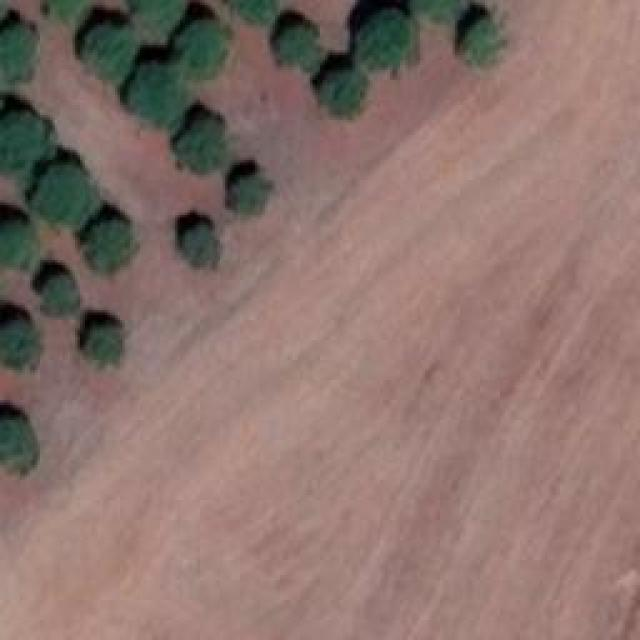Tree: (127, 65, 185, 123), (43, 163, 96, 226), (358, 13, 413, 73), (0, 113, 45, 176), (175, 120, 225, 175), (85, 215, 130, 275), (83, 25, 136, 75), (177, 20, 225, 75), (0, 25, 38, 80), (0, 215, 38, 265), (0, 418, 35, 471), (278, 25, 321, 68), (38, 273, 81, 316), (83, 323, 126, 366), (325, 68, 365, 113), (0, 320, 40, 365), (467, 20, 505, 65), (128, 0, 181, 28), (183, 223, 216, 266), (405, 0, 468, 20), (233, 175, 266, 213), (227, 0, 275, 20), (43, 0, 83, 20)
